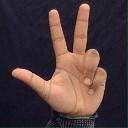hand: (11, 3, 107, 119)
